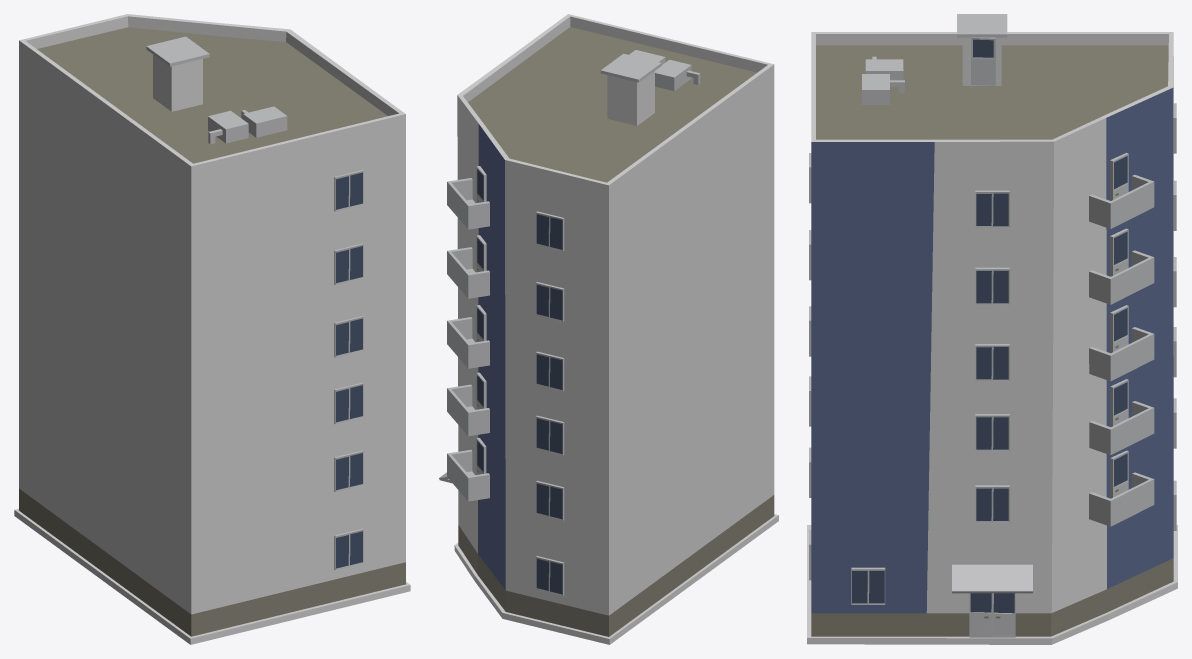
Rendered from apartment_complex_03.glb.
The picture shows the model from 3 angles, left to right: view 1: azimuth 30°, elevation 25°; view 2: azimuth 150°, elevation 25°; view 3: azimuth 270°, elevation 25°; orthographic projection. The views are drawn at different scales.
Parts seen in each view (by area): view 1: Cube.005; view 2: Cube.005; view 3: Cube.005.
Boxes of the visible parts, bbox=[...] form: Cube.005: bbox=[14, 14, 410, 644]; Cube.005: bbox=[439, 14, 778, 644]; Cube.005: bbox=[807, 14, 1177, 644].
Size of the model in its own units: 1.77 by 3.54 by 2.19.
